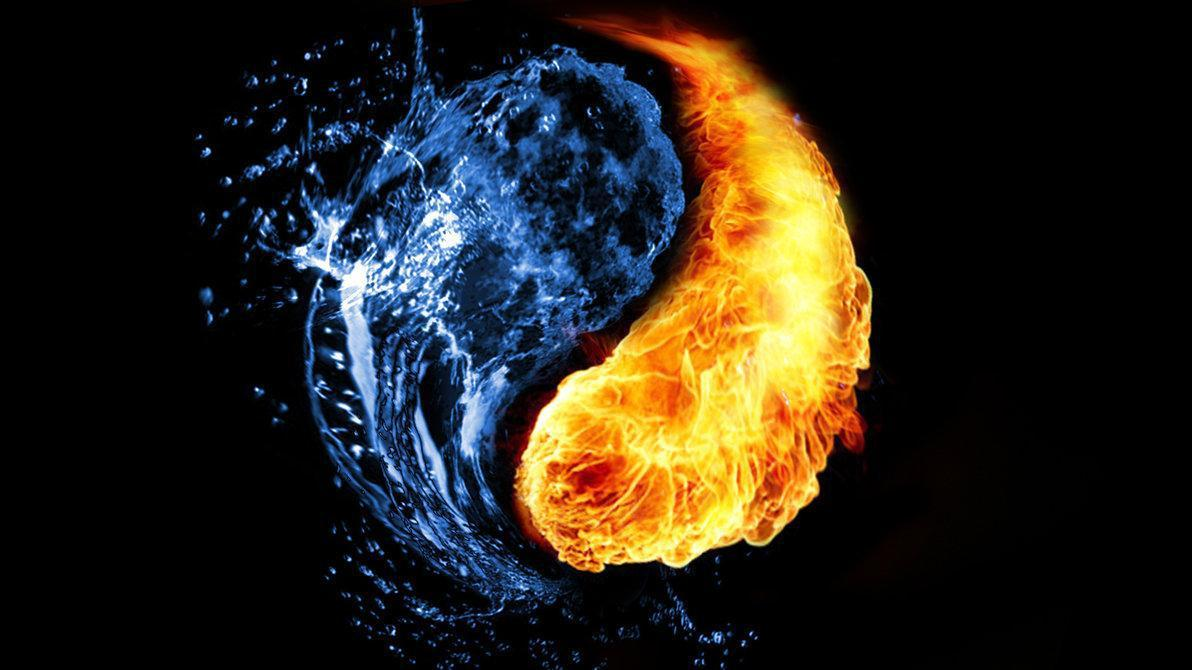fire: (511, 15, 885, 585)
